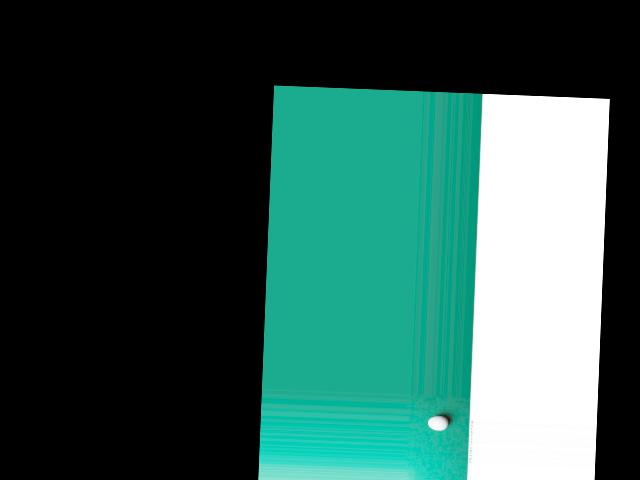egg: (428, 416, 448, 431)
